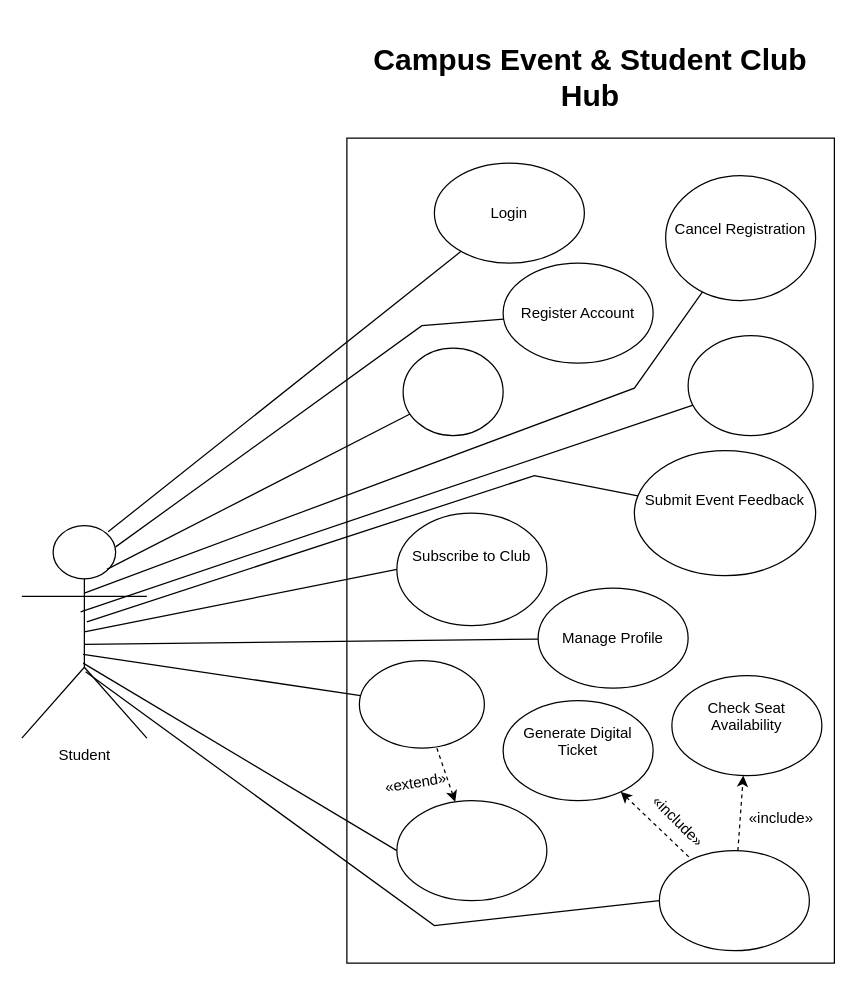
Image size: 866x985. Some labels were removed from this diagram. The box of each missing label's shape, as (x1, y1, x2, y2) in pixels:
Browse Events: (396, 799, 547, 901)
Register for Event: (658, 849, 809, 951)
Search & Filter Events: (358, 659, 484, 748)
View Digital Ticket: (402, 347, 503, 436)
View Event Calendar: (687, 334, 813, 436)
